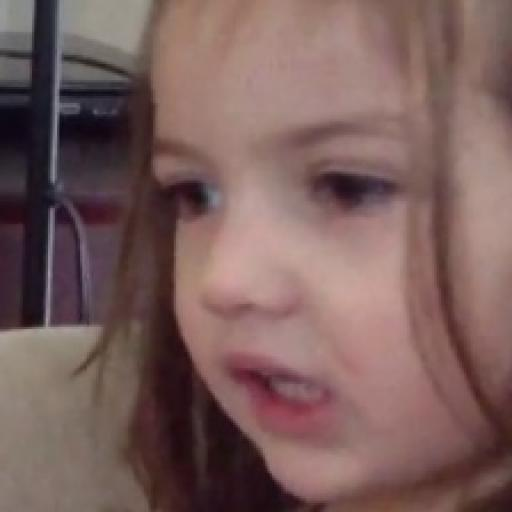Autism: (139, 13, 512, 447)
